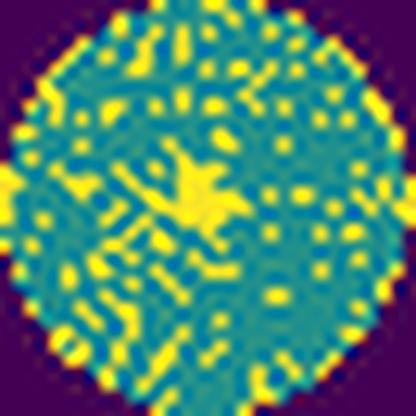Center: (115, 136, 252, 254)
